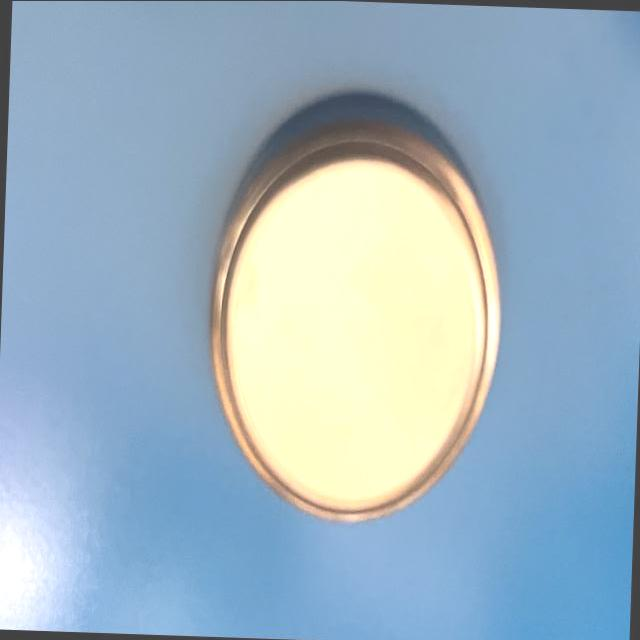COIN: (199, 96, 509, 530)
